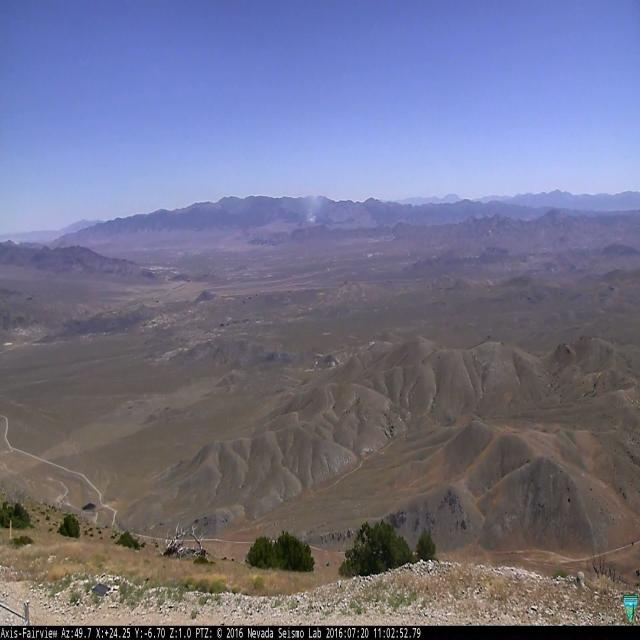smoke: (307, 190, 318, 222)
